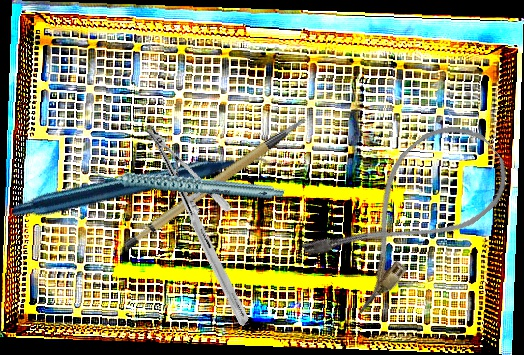Cannula: (297, 106, 523, 318)
Handpiece: (10, 73, 274, 304), (89, 127, 286, 238)
Needle Holder: (86, 124, 309, 327)
Scalpel Handle: (109, 115, 325, 254)
